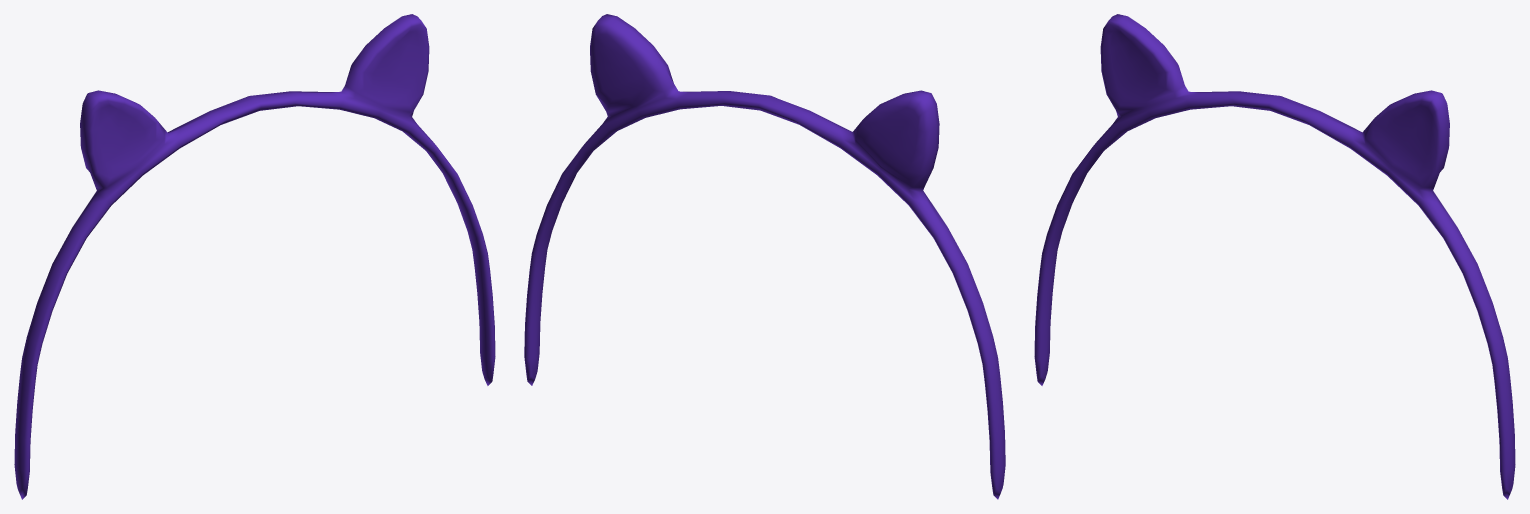
3 renders of one model, left to right at view 1: azimuth 30°, elevation 25°; view 2: azimuth 150°, elevation 25°; view 3: azimuth 330°, elevation 25°, orthographic.
Parts seen in each view (by area): view 1: 0_2; view 2: 0_2; view 3: 0_2.
Boxes of the visible parts, x1,y1,x2,y2 form: 0_2: (14,14,495,499); 0_2: (524,14,1005,499); 0_2: (1034,14,1515,499).
Size of the model in its own units: 31.73 by 24.78 by 1.67.
